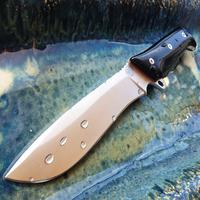knife: (4, 29, 193, 190)
